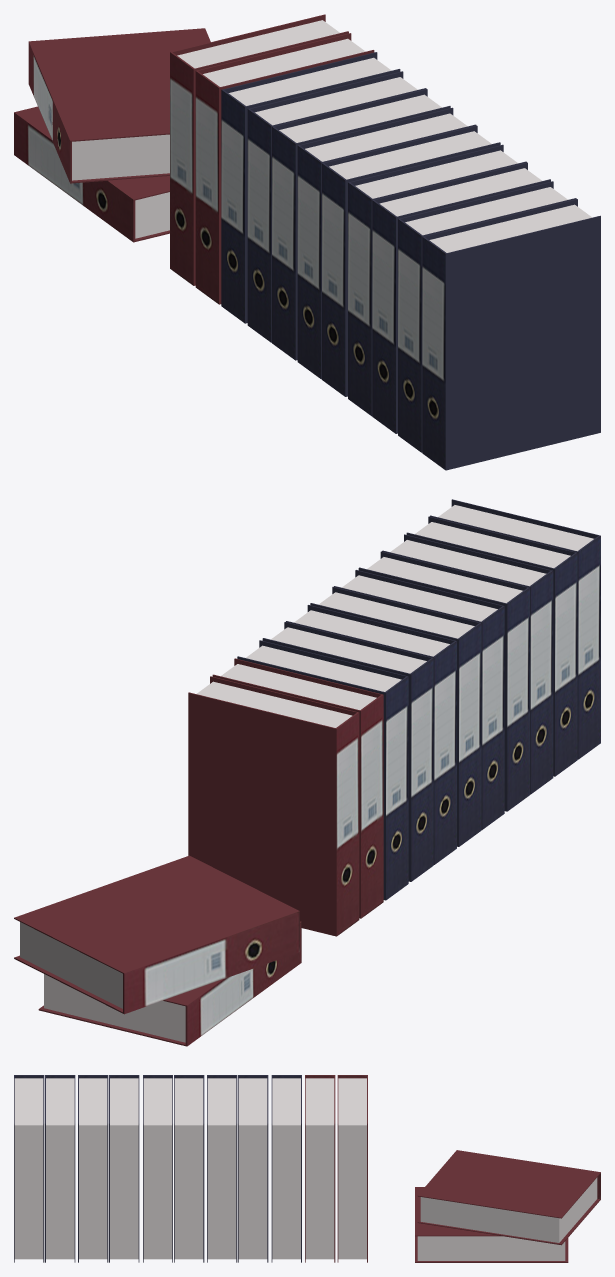
Rendered from Files 4.FBX.
The picture shows the model from 3 angles, top to bottom: view 1: azimuth 30°, elevation 25°; view 2: azimuth 150°, elevation 25°; view 3: azimuth 270°, elevation 25°; orthographic projection. The views are drawn at different scales.
Visible parts, largest first — view 1: Files 4; view 2: Files 4; view 3: Files 4.
Boxes of the visible parts, left/top/right/bottom form: Files 4: left=14, top=14, right=600, bottom=470; Files 4: left=14, top=499, right=600, bottom=1046; Files 4: left=14, top=1075, right=600, bottom=1262.
Bounding box in the file's own units: 253 × 924 × 242.
1 material, 1 textured.
